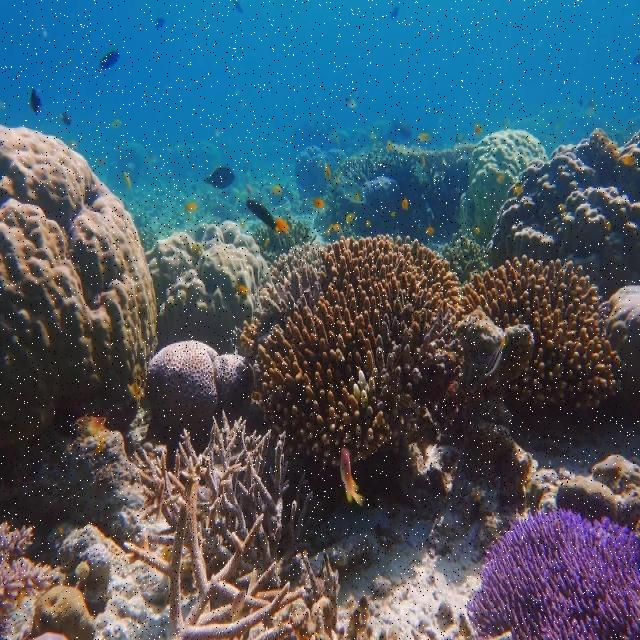fish: (340, 448, 364, 507), (246, 199, 278, 232), (201, 166, 236, 190), (99, 49, 120, 69)
reefs: (238, 235, 623, 468), (123, 408, 398, 639), (0, 125, 158, 449), (486, 126, 639, 300), (0, 414, 169, 563), (465, 505, 639, 639), (0, 519, 172, 639), (143, 220, 271, 353), (469, 129, 548, 242), (148, 340, 256, 414), (608, 284, 639, 392), (442, 228, 496, 281)
